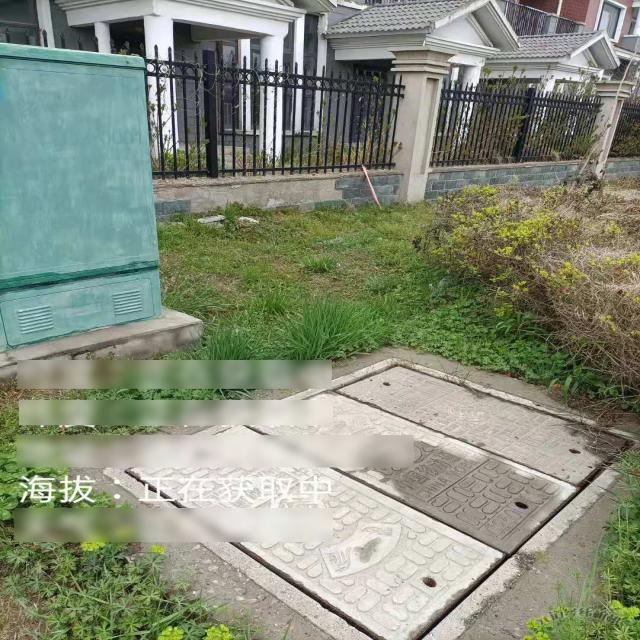Good: (102, 357, 639, 637)
